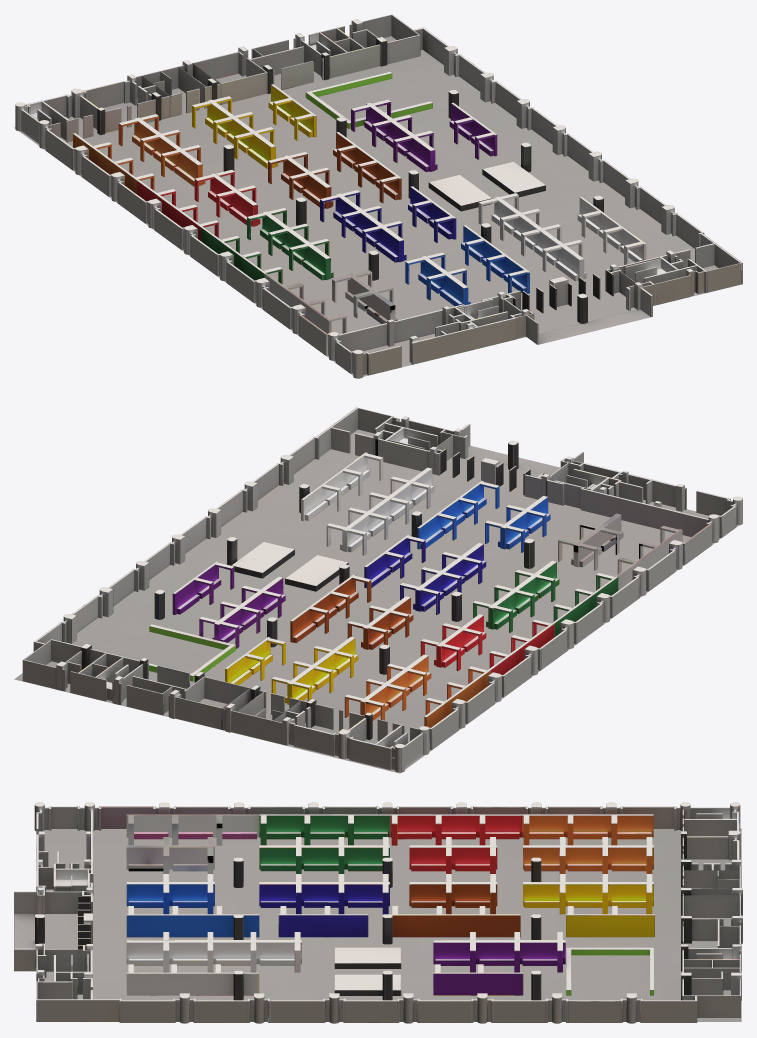
Rendered from Map_Kiosk.glb.
3 renders of one model, top to bottom at view 1: azimuth 30°, elevation 25°; view 2: azimuth 150°, elevation 25°; view 3: azimuth 270°, elevation 25°, orthographic. The views are drawn at different scales.
Visible parts, largest first — view 1: Cube.412; view 2: Cube.412; view 3: Cube.412.
Boxes of the visible parts, <box> form: Cube.412: <box>14,14,742,378</box>; Cube.412: <box>14,407,742,773</box>; Cube.412: <box>14,802,742,1023</box>.
Bounding box in the file's own units: 57.72 × 4.84 × 90.68.
1 material, 1 textured.
